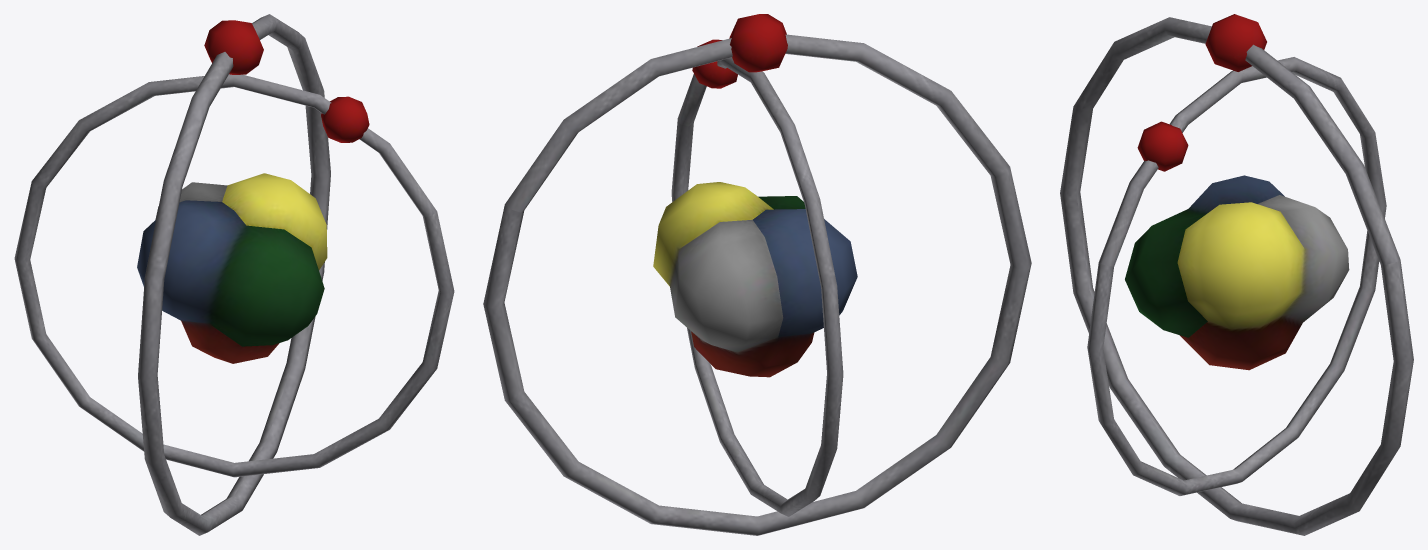
File: infotron_11.obj
3 renders of one model, left to right at view 1: azimuth 30°, elevation 25°; view 2: azimuth 150°, elevation 25°; view 3: azimuth 270°, elevation 25°, orthographic. The views are drawn at different scales.
Parts seen in each view (by area): view 1: unwrapped2, Object09, Object10, Object12, Object11; view 2: Object09, unwrapped2, Object10, Object12, Object11; view 3: unwrapped2, Object09, Object10, Object12, Object11.
Boxes of the visible parts, bbox=[...] form: unwrapped2: bbox=[137, 173, 327, 363]; Object09: bbox=[138, 14, 330, 535]; Object10: bbox=[14, 74, 454, 477]; Object12: bbox=[204, 20, 263, 74]; Object11: bbox=[321, 96, 369, 142]; Object09: bbox=[483, 34, 1031, 535]; unwrapped2: bbox=[653, 182, 857, 377]; Object10: bbox=[671, 57, 843, 516]; Object12: bbox=[729, 14, 787, 72]; Object11: bbox=[692, 39, 737, 88]; unwrapped2: bbox=[1125, 175, 1349, 370]; Object09: bbox=[1060, 17, 1413, 535]; Object10: bbox=[1087, 57, 1386, 495]; Object12: bbox=[1205, 14, 1266, 71]; Object11: bbox=[1137, 121, 1188, 171].
Size of the model in its own units: 27.27 by 36.51 by 23.15.
Materials: 1 (1 with a texture image).
